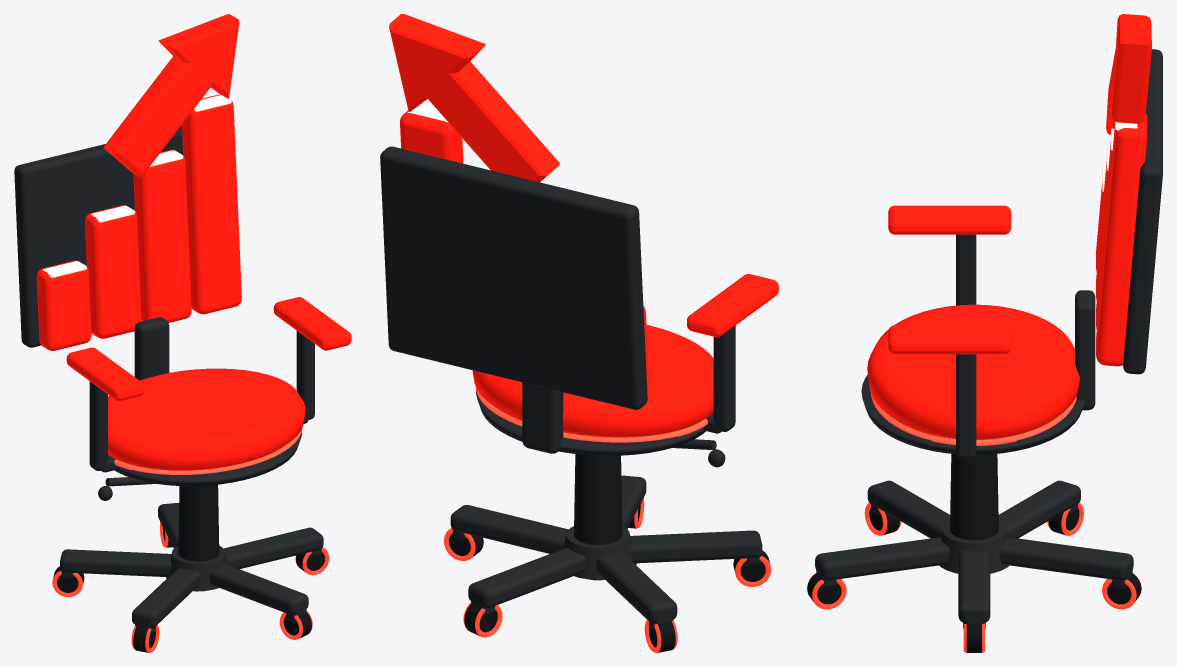
File: cadeira_da_producao.glb
3 views of the same model, side by side, from view 1: azimuth 30°, elevation 25°; view 2: azimuth 150°, elevation 25°; view 3: azimuth 270°, elevation 25° (orthographic). The views are drawn at different scales.
Parts seen in each view (by area): view 1: almofada, chapa_fundo, barra_3, seta_corpo, barra_2, barra_1, barra_0, pistao, braco_2, braco_4, braco_0, apoio_-1 (+9 smaller); view 2: chapa_fundo, seta_corpo, almofada, pistao, braco_3, braco_1, braco_0, apoio_-1, braco_2, suporte_encosto, chapa, barra_3 (+5 smaller); view 3: almofada, barra_3, chapa_fundo, seta_corpo, pistao, braco_4, braco_1, apoio_1, apoio_-1, chapa, braco_3, braco_2 (+8 smaller).
Part boxes in pixels (<box>): almofada: <box>108,368,305,470</box>; chapa_fundo: <box>14,125,183,347</box>; barra_3: <box>182,94,241,314</box>; seta_corpo: <box>103,14,239,177</box>; barra_2: <box>133,150,191,322</box>; barra_1: <box>85,205,141,338</box>; barra_0: <box>36,260,91,350</box>; pistao: <box>178,484,219,591</box>; braco_2: <box>60,549,171,576</box>; braco_4: <box>209,564,308,615</box>; braco_0: <box>223,527,323,569</box>; apoio_-1: <box>66,347,144,401</box>; chapa_fundo: <box>380,146,647,409</box>; seta_corpo: <box>389,14,559,182</box>; almofada: <box>472,325,713,437</box>; pistao: <box>574,454,622,580</box>; braco_3: <box>630,530,762,563</box>; braco_1: <box>468,547,585,608</box>; braco_0: <box>450,505,568,553</box>; apoio_-1: <box>687,274,778,337</box>; braco_2: <box>596,552,677,623</box>; suporte_encosto: <box>522,382,563,453</box>; chapa: <box>476,390,705,455</box>; barra_3: <box>400,110,463,163</box>; almofada: <box>867,304,1079,439</box>; barra_3: <box>1096,113,1147,366</box>; chapa_fundo: <box>1123,49,1162,374</box>; seta_corpo: <box>1106,14,1151,134</box>; pistao: <box>950,453,998,540</box>; braco_4: <box>815,537,949,580</box>; braco_1: <box>999,537,1133,580</box>; apoio_1: <box>888,325,1011,354</box>; apoio_-1: <box>888,205,1011,234</box>; chapa: <box>861,374,1085,454</box>; braco_3: <box>867,480,950,538</box>; braco_2: <box>998,480,1080,538</box>.
Bounding box in the file's own units: 0.735 × 1.46 × 0.7805.
